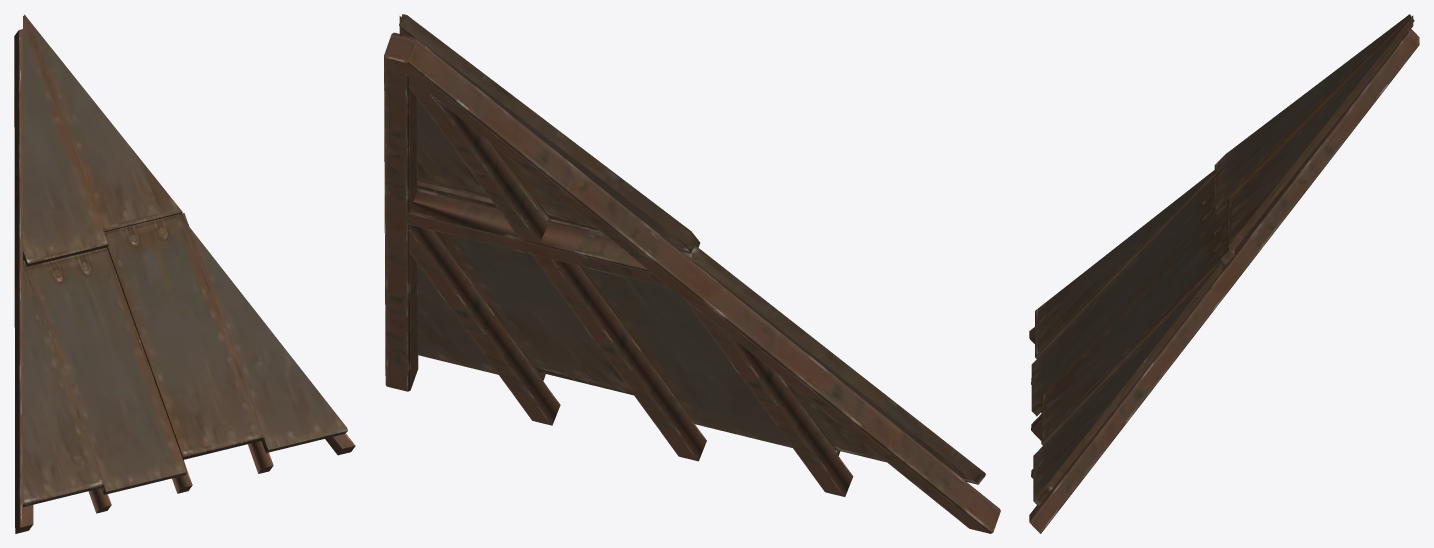
File: roof.triangle.toptier.up.glb
3 renders of one model, left to right at view 1: azimuth 30°, elevation 25°; view 2: azimuth 150°, elevation 25°; view 3: azimuth 270°, elevation 25°, orthographic. The views are drawn at different scales.
Parts seen in each view (by area): view 1: LOD0; view 2: LOD0; view 3: LOD0.
Boxes of the visible parts, x1,y1,x2,y2 form: LOD0: (14, 14, 355, 533); LOD0: (384, 14, 1000, 533); LOD0: (1029, 14, 1419, 533).
Size of the model in its own units: 3.11 by 3.21 by 2.68.
1 material, 1 textured.
